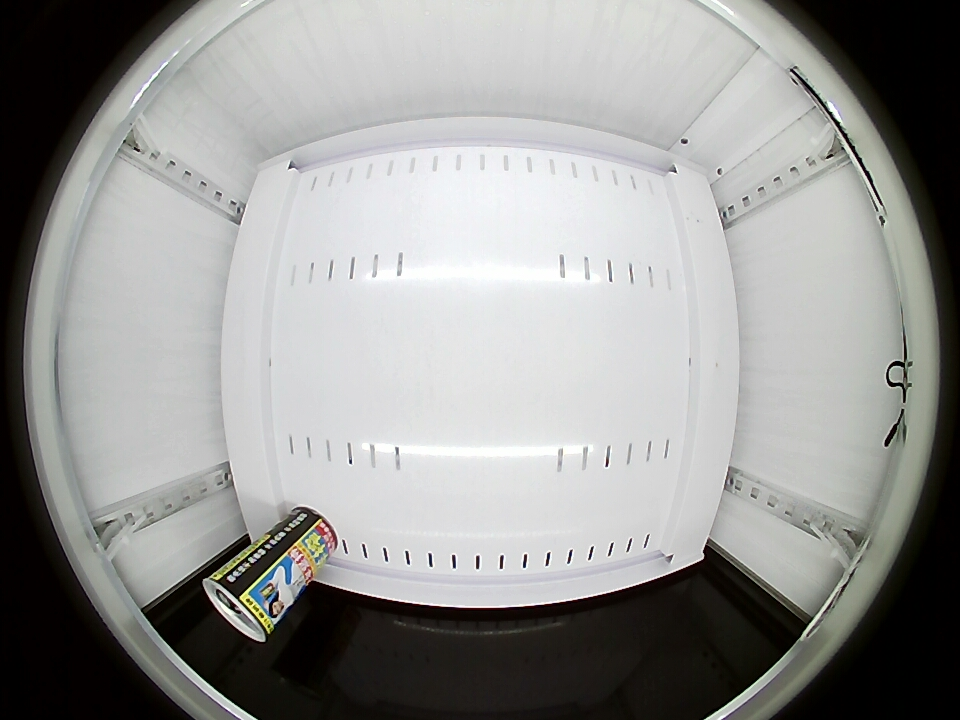yezhi: (205, 565, 281, 643)
